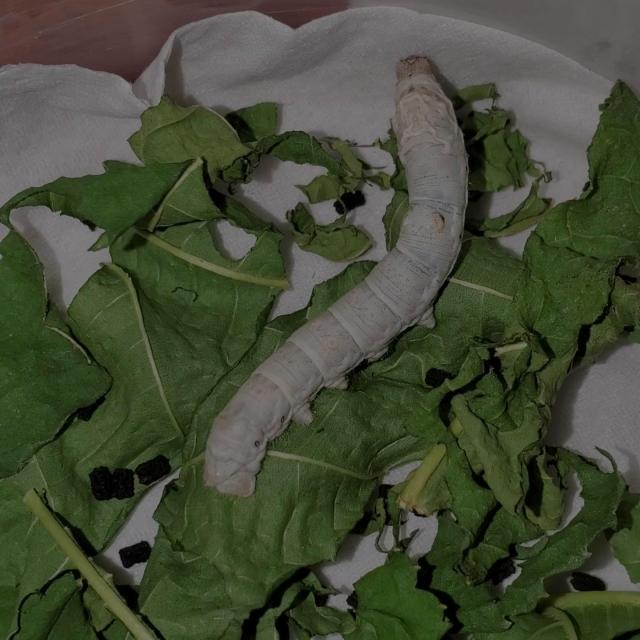Healthy: (176, 33, 499, 506)
